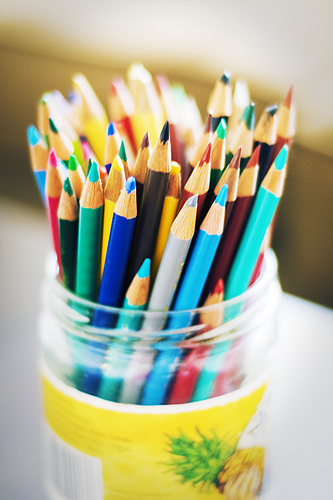pen_tip: (146, 116, 174, 178)
